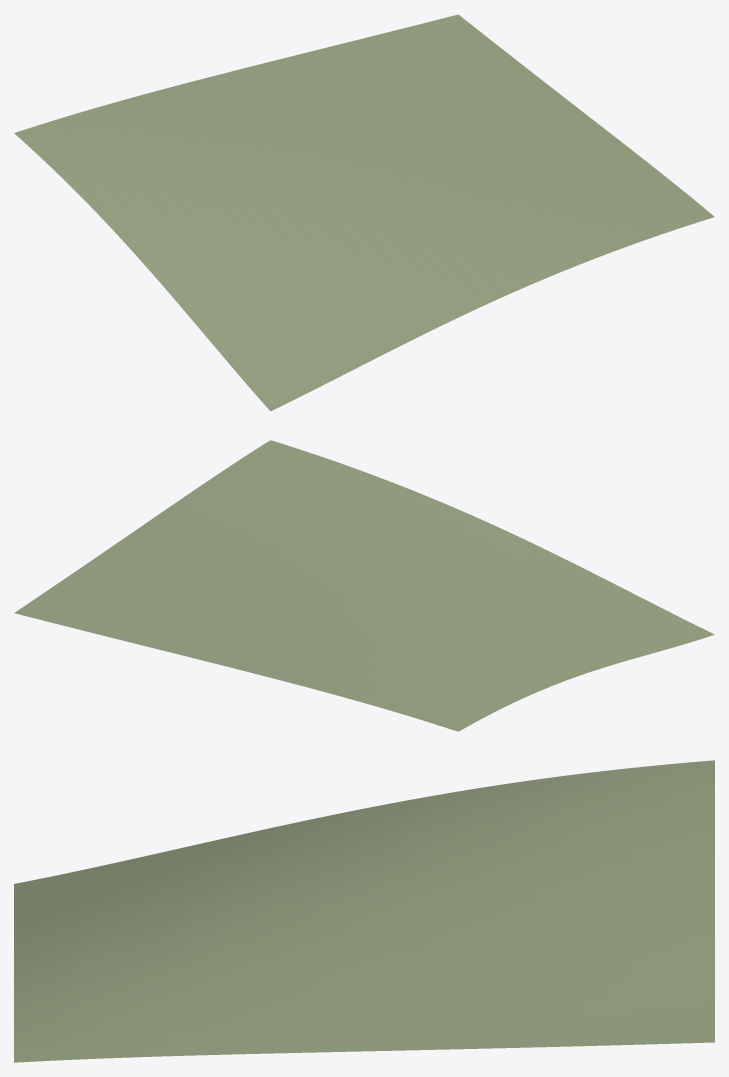
File: expanse-12-12.glb
3 views of the same model, one above another, from view 1: azimuth 30°, elevation 25°; view 2: azimuth 150°, elevation 25°; view 3: azimuth 270°, elevation 25° (orthographic). The views are drawn at different scales.
Visible parts, largest first — view 1: expanse-12-12; view 2: expanse-12-12; view 3: expanse-12-12.
Boxes of the visible parts, bbox=[...] form: expanse-12-12: bbox=[14, 14, 714, 411]; expanse-12-12: bbox=[14, 440, 714, 731]; expanse-12-12: bbox=[14, 760, 714, 1062].
Size of the model in its own units: 256 by 55.49 by 256.
